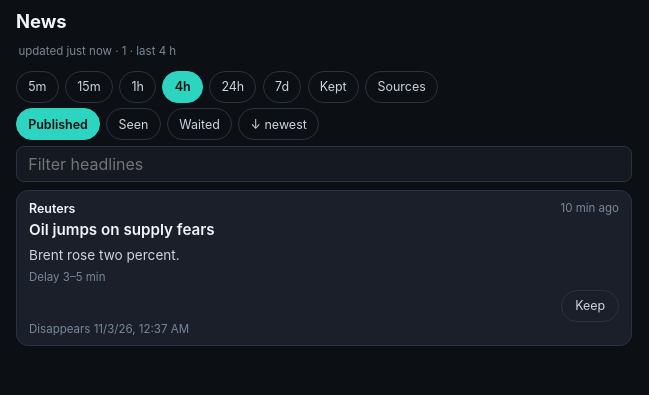
Test case: NewsScreen › puts the card back and says so when keeping is refused
Check: the text "Oil jumps on supply fears" is shown, box [29,220,215,239]
Click the button "Keep" at (590, 306), box [561,290,619,322]
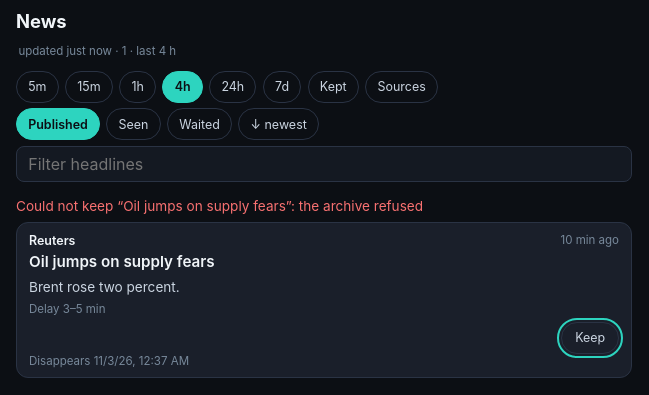
Check: the message shows "the archive refused", box [16,198,423,214]
